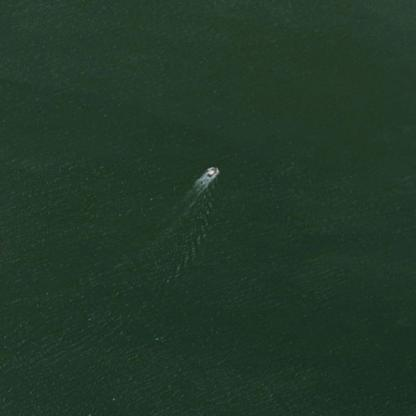ship: (198, 157, 222, 184)
